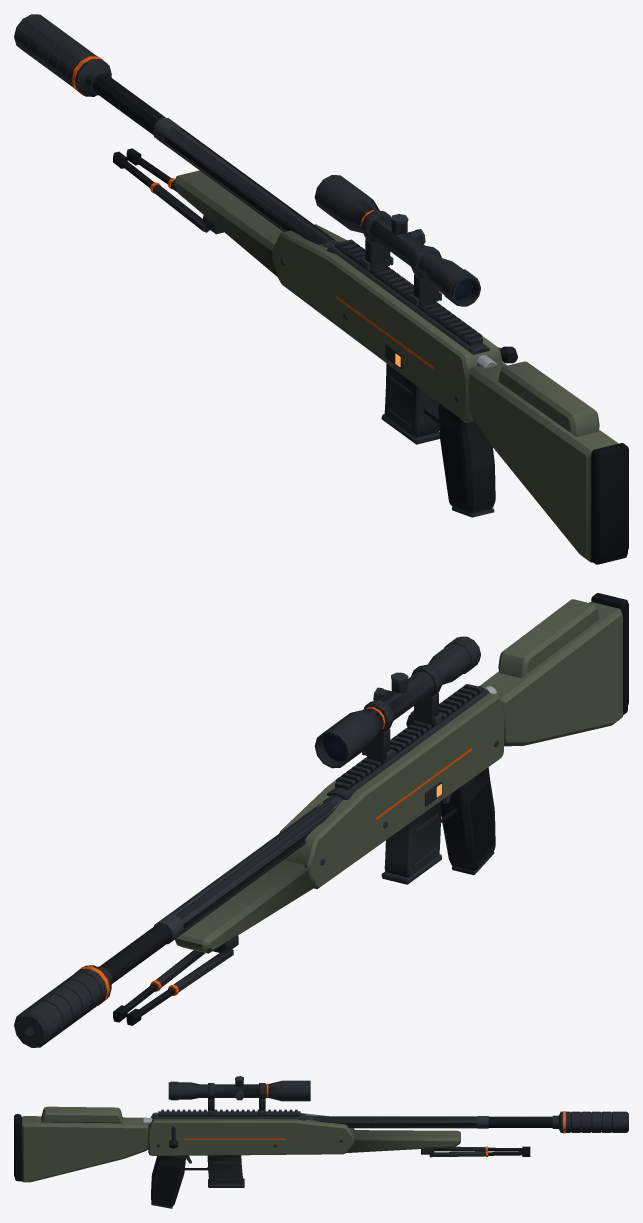
3 renders of one model, top to bottom at view 1: azimuth 30°, elevation 25°; view 2: azimuth 150°, elevation 25°; view 3: azimuth 270°, elevation 25°, orthographic. The views are drawn at different scales.
Visible parts, largest first — view 1: body_furn, body_frame2, body_steel, body_rubber, body_polymer, mag_frame2; view 2: body_furn, body_frame2, body_steel, mag_frame2, body_polymer, body_rubber, body_accent; view 3: body_furn, body_frame2, body_steel, body_rubber, mag_frame2, body_polymer, body_accent.
Boxes of the visible parts, bbox=[...] form: body_furn: bbox=[174, 170, 618, 562]; body_frame2: bbox=[14, 14, 494, 517]; body_steel: bbox=[92, 74, 458, 401]; body_rubber: bbox=[113, 148, 628, 564]; body_polymer: bbox=[438, 403, 495, 513]; mag_frame2: bbox=[381, 363, 439, 444]; body_furn: bbox=[175, 599, 622, 953]; body_frame2: bbox=[14, 636, 494, 1047]; body_steel: bbox=[99, 672, 498, 1016]; mag_frame2: bbox=[381, 801, 441, 884]; body_polymer: bbox=[441, 767, 495, 870]; body_rubber: bbox=[113, 593, 628, 1025]; body_accent: bbox=[74, 707, 471, 1005]; body_furn: bbox=[21, 1106, 460, 1182]; body_frame2: bbox=[151, 1080, 628, 1208]; body_steel: bbox=[156, 1076, 552, 1163]; body_rubber: bbox=[14, 1114, 530, 1202]; mag_frame2: bbox=[207, 1155, 244, 1187]; body_polymer: bbox=[151, 1155, 185, 1206]; body_accent: bbox=[183, 1083, 565, 1156].
Size of the model in its own units: 0.0901 by 0.2784 by 1.21.
